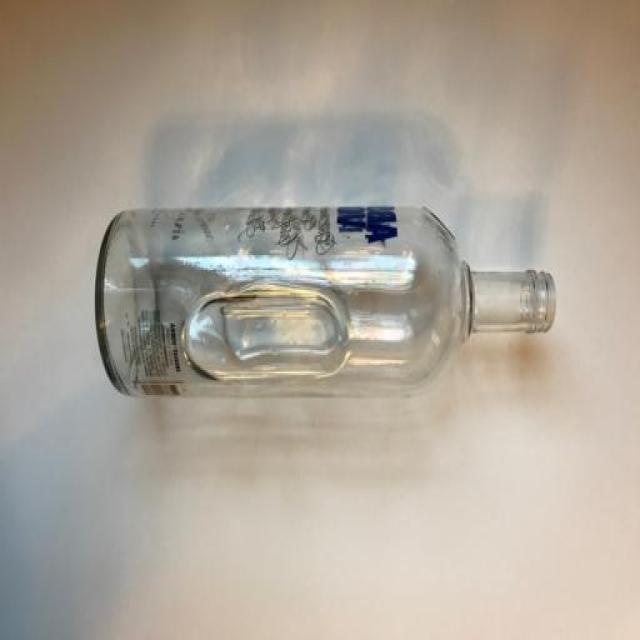glass: (95, 207, 556, 402)
